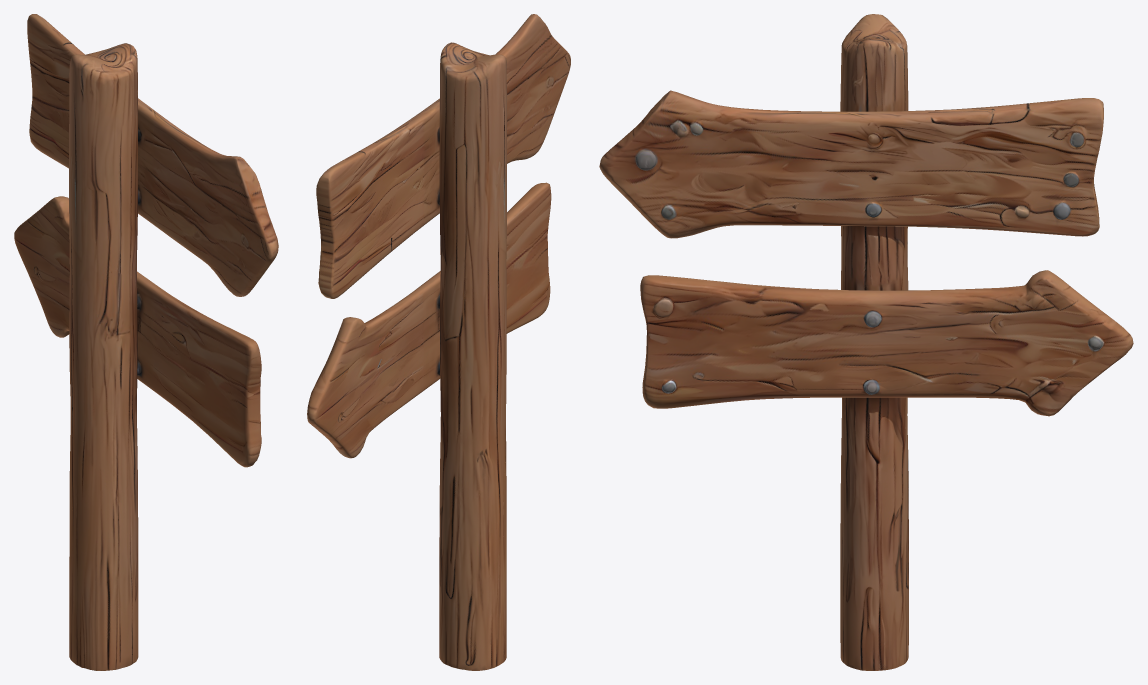
Rendered from sign.glb.
The picture shows the model from 3 angles, left to right: view 1: azimuth 30°, elevation 25°; view 2: azimuth 150°, elevation 25°; view 3: azimuth 270°, elevation 25°; orthographic projection. The views are drawn at different scales.
Parts seen in each view (by area): view 1: tripo_node_1334142a-1197-4873-9c37-2fc98aced1cf; view 2: tripo_node_1334142a-1197-4873-9c37-2fc98aced1cf; view 3: tripo_node_1334142a-1197-4873-9c37-2fc98aced1cf.
Boxes of the visible parts, <box> form: tripo_node_1334142a-1197-4873-9c37-2fc98aced1cf: <box>14,14,278,670</box>; tripo_node_1334142a-1197-4873-9c37-2fc98aced1cf: <box>307,14,570,670</box>; tripo_node_1334142a-1197-4873-9c37-2fc98aced1cf: <box>599,14,1133,670</box>.
Size of the model in its own units: 0.1424 by 1 by 0.7685.
1 material, 1 textured.
